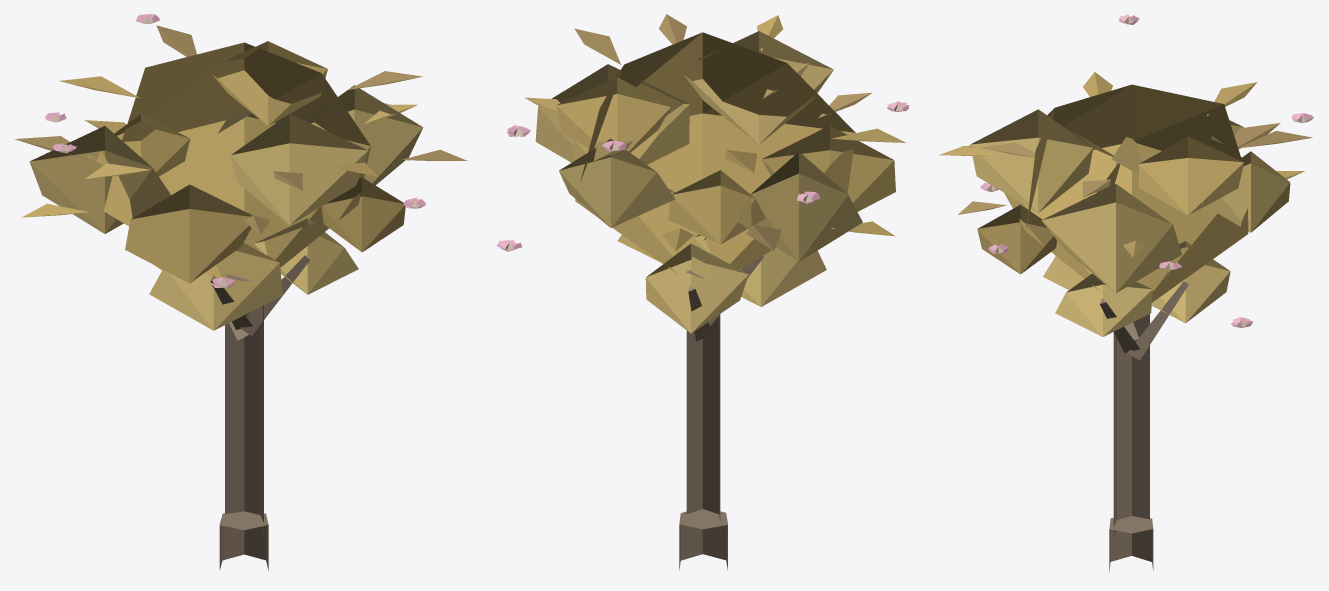
Rendered from shu.paotong@flowering__autumn.glb.
The picture shows the model from 3 angles, left to right: view 1: azimuth 30°, elevation 25°; view 2: azimuth 150°, elevation 25°; view 3: azimuth 270°, elevation 25°; orthographic projection. The views are drawn at different scales.
Parts seen in each view (by area): view 1: shu.paotong@flowering__autumn; view 2: shu.paotong@flowering__autumn; view 3: shu.paotong@flowering__autumn.
Boxes of the visible parts, bbox=[...] form: shu.paotong@flowering__autumn: bbox=[14, 14, 467, 570]; shu.paotong@flowering__autumn: bbox=[496, 14, 909, 570]; shu.paotong@flowering__autumn: bbox=[939, 14, 1313, 571].
Size of the model in its own units: 12.98 by 16.56 by 11.93.
